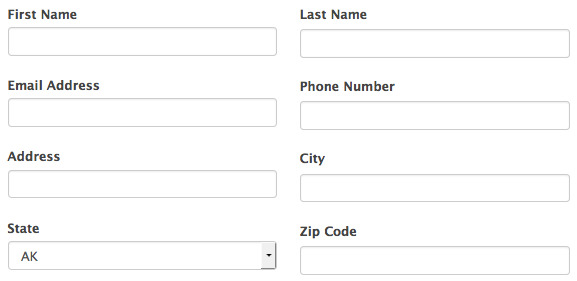_form_: (1, 1, 416, 281), (289, 3, 577, 281)
field: (8, 26, 279, 58), (7, 169, 279, 200), (300, 100, 571, 131), (299, 173, 573, 203), (7, 98, 279, 128), (301, 245, 573, 275), (300, 28, 571, 58), (7, 240, 278, 270)
field_with_label: (297, 152, 576, 205), (298, 225, 575, 277), (6, 79, 282, 130), (6, 8, 281, 59), (6, 151, 281, 202), (298, 82, 573, 133), (299, 9, 572, 60), (5, 222, 280, 272)
